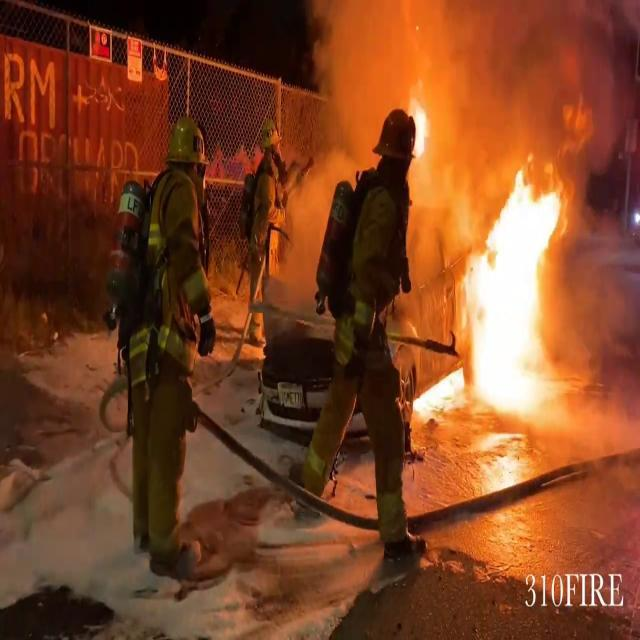Fire: (415, 154, 581, 424)
Smoke: (280, 0, 620, 192)
